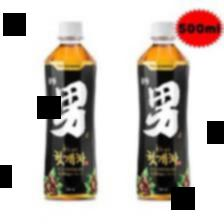heotgaecha: (136, 20, 191, 201), (44, 17, 98, 200)
